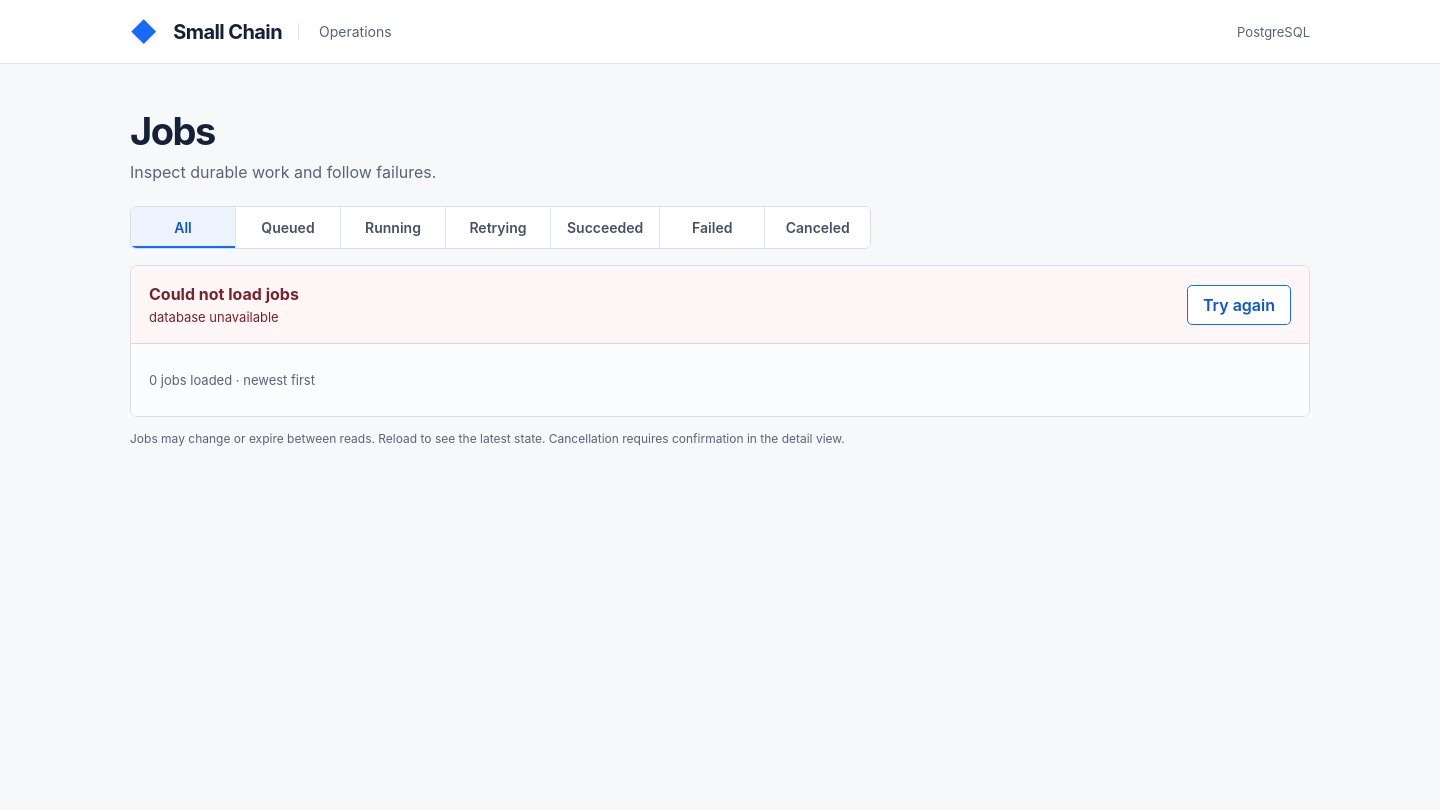
Test: operations console › recovers from an initial API failure
expect the message shows "database unavailable": met, box x1=149 y1=309 x2=279 y2=325
Click the button "Try again" at (1239, 304), box x1=1187 y1=284 x2=1291 y2=324
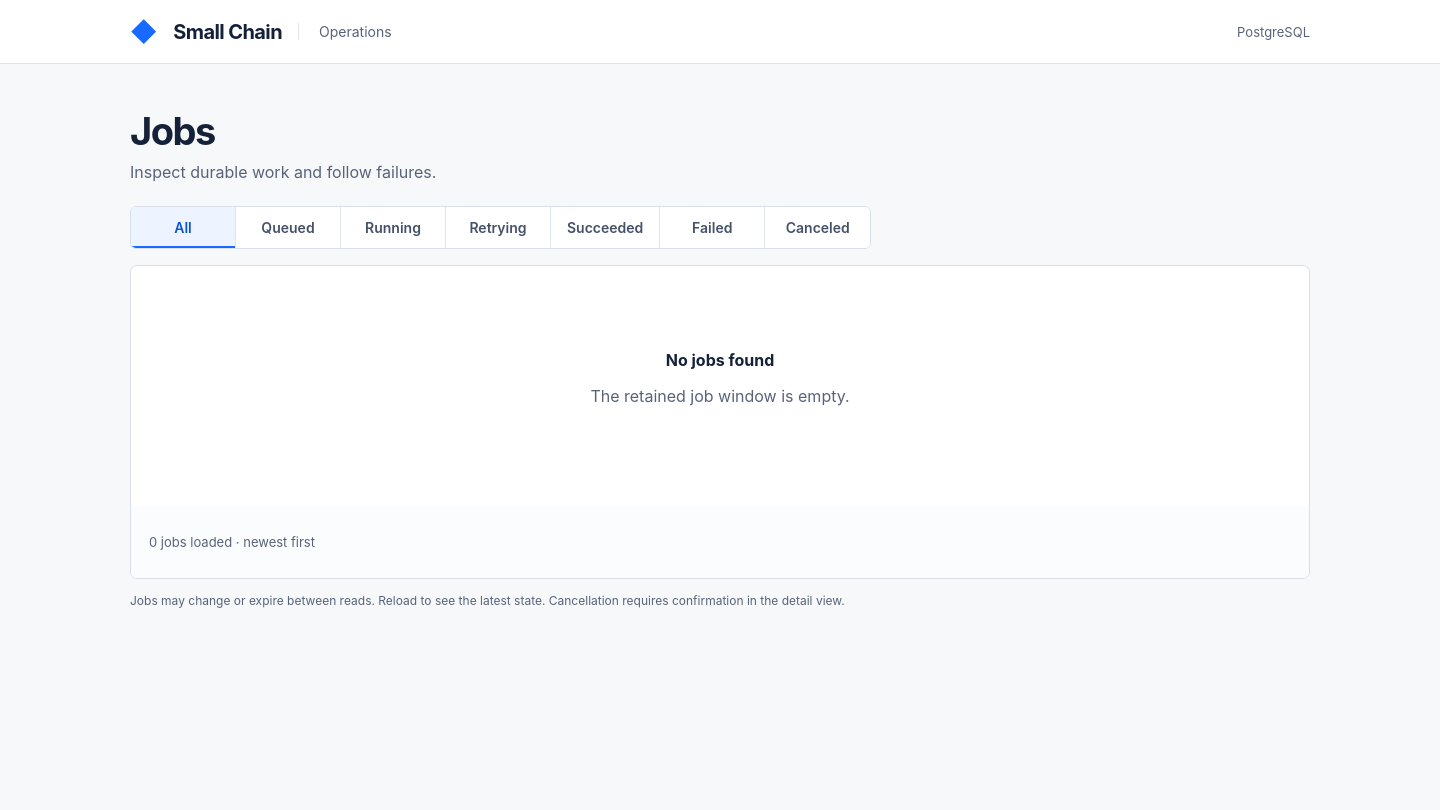
expect the text "No jobs found" is shown: met, box x1=666 y1=350 x2=774 y2=370
